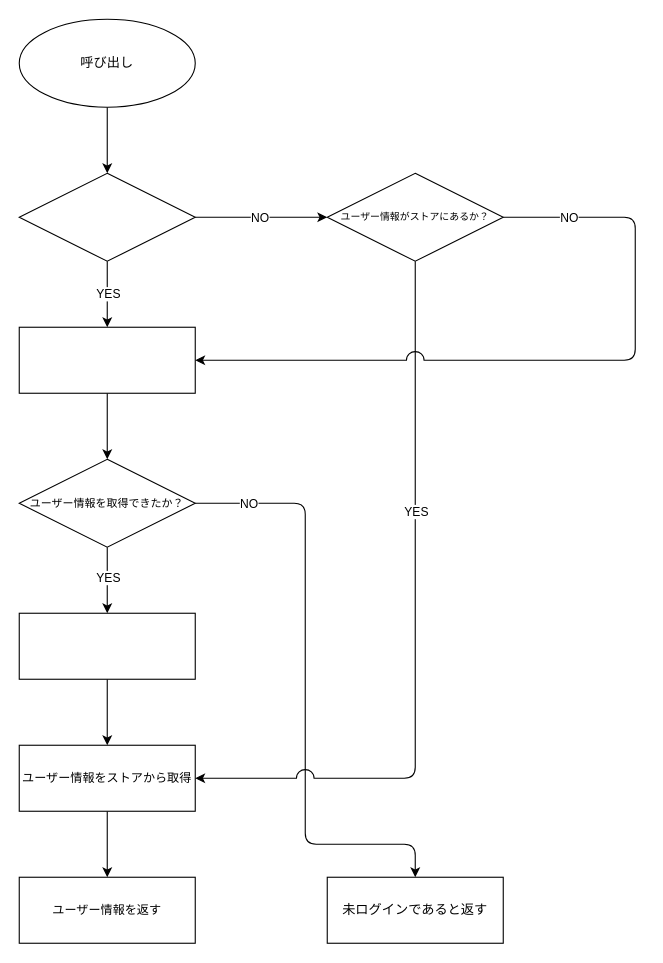
The diagram is 663 pixels wide and 963 high, and some of its shapes have lost their labels. The shapes that lost their labels are listed below. From the top down, each one's centre as x and y in pixels, then its label:
At point 106,216: "初回呼び出しか？".
At point 106,359: "サーバーに問い合わせる".
At point 106,645: "ユーザー情報をストアに保存".
